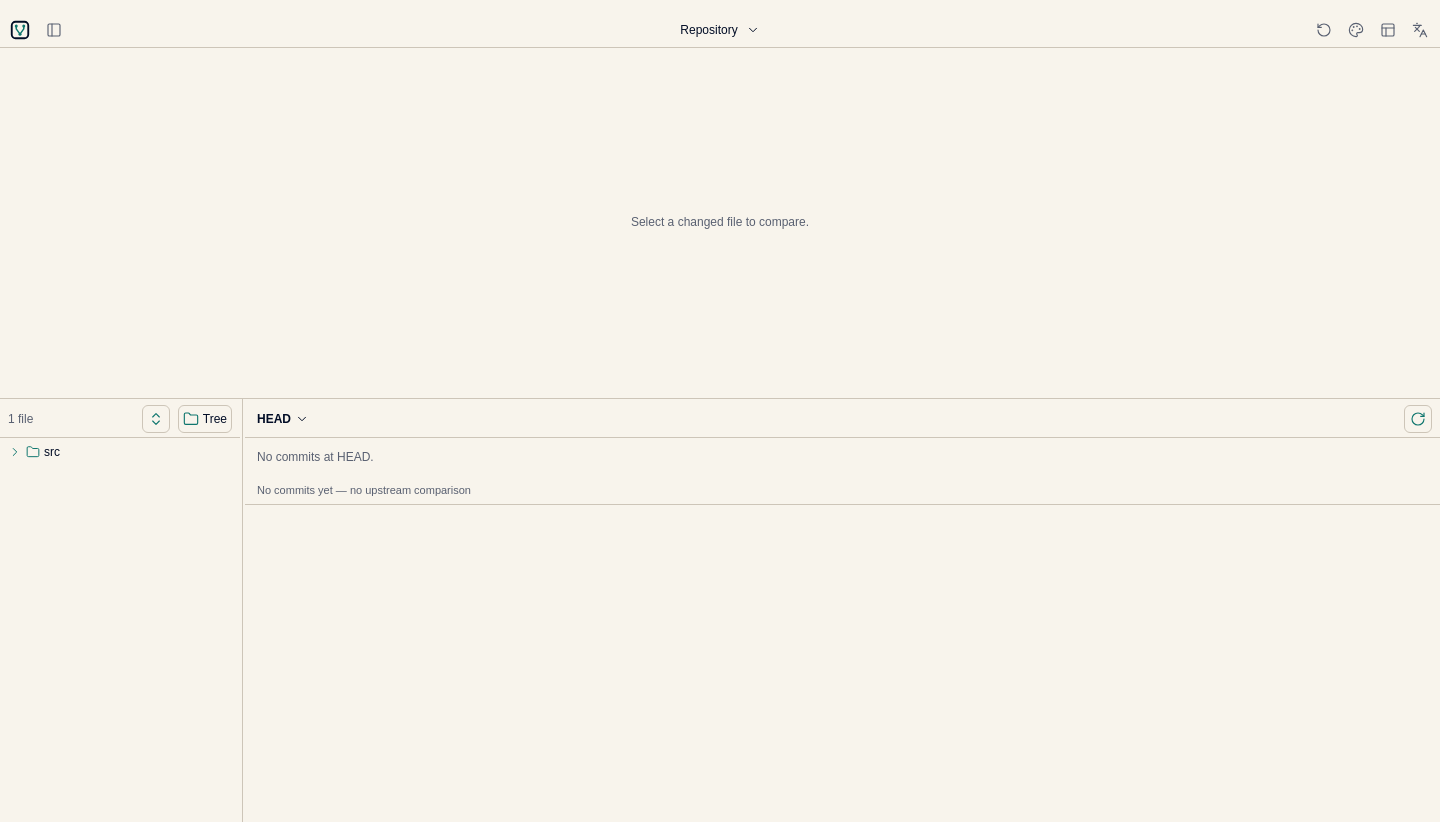
Scenario: the mounted main workbench keeps its own choice until a claim synchronously applies the exact native target
The image size is (1440, 822).
Click the button named "Expand all" at [156, 419], box [142,405,170,433]
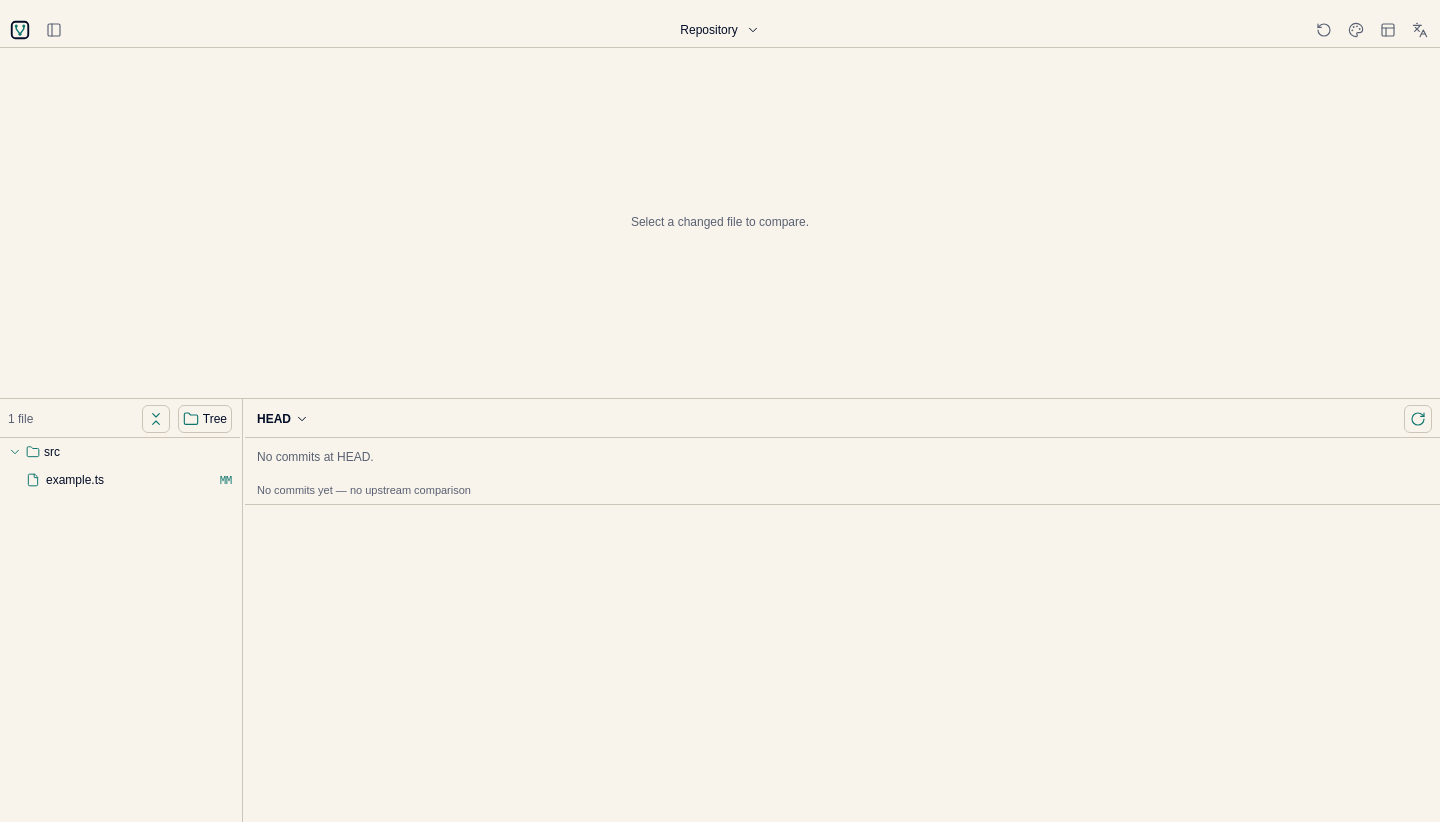
Click the button with aria-label "Review src/example.ts" at [129, 480], box [22,466,236,494]
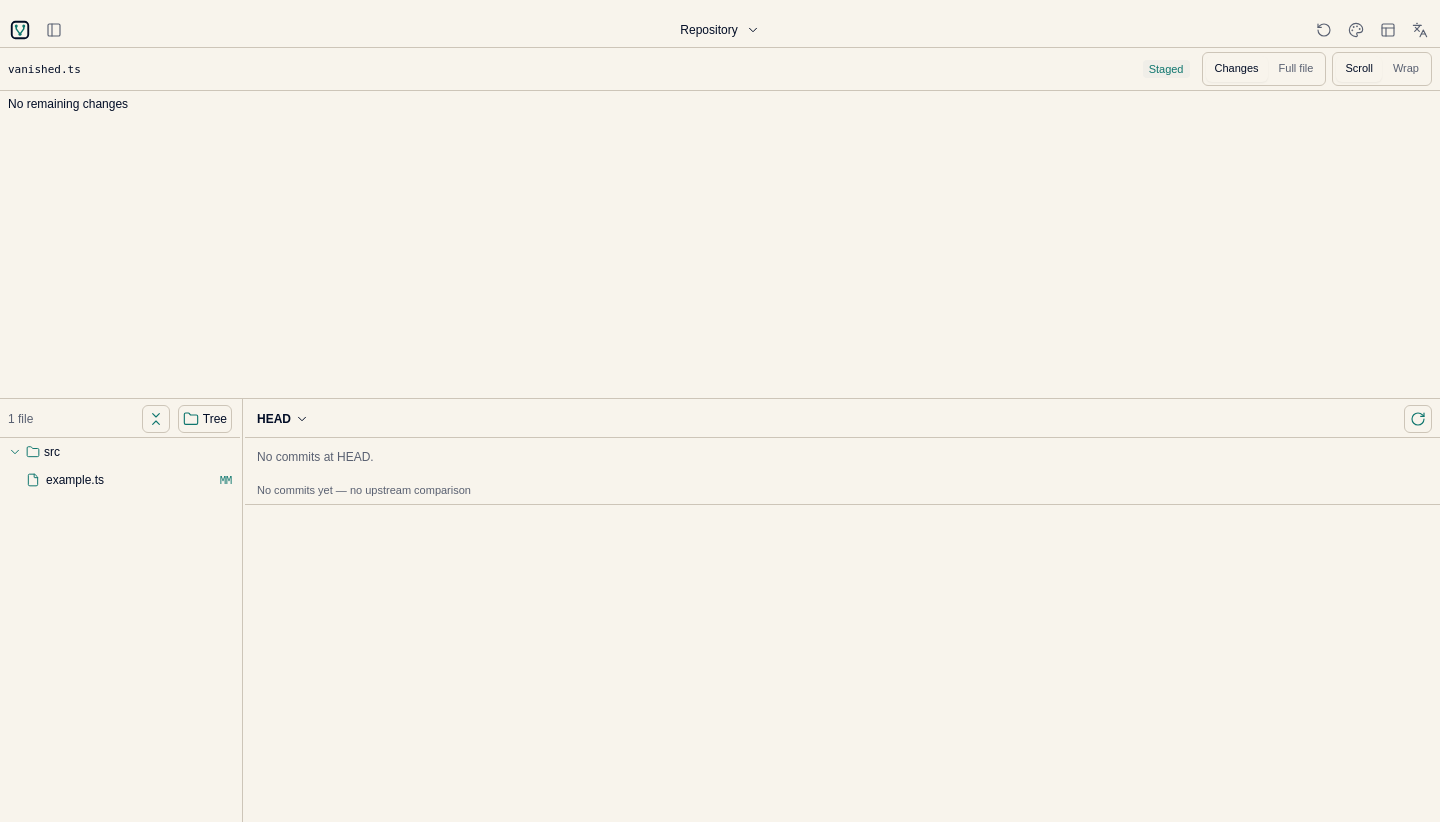
expect the heading "No remaining changes" is shown: met, box [8,97,128,111]
expect the heading "vanished.ts" is shown: met, box [8,62,81,76]
